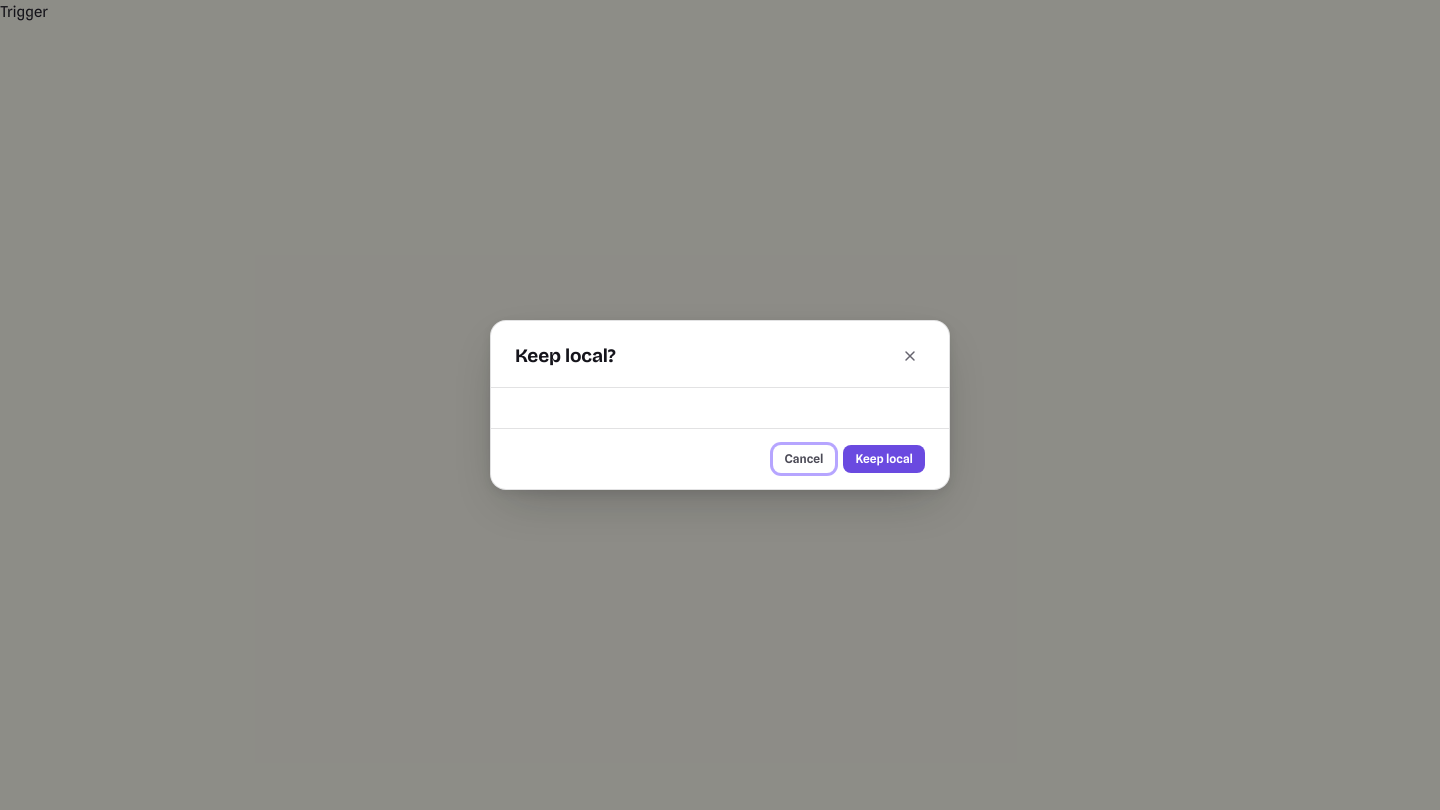
Test: useConfirm › waits for an explicit yes
Click the button "Keep local" at x=884, y=459, box [843, 445, 925, 473]
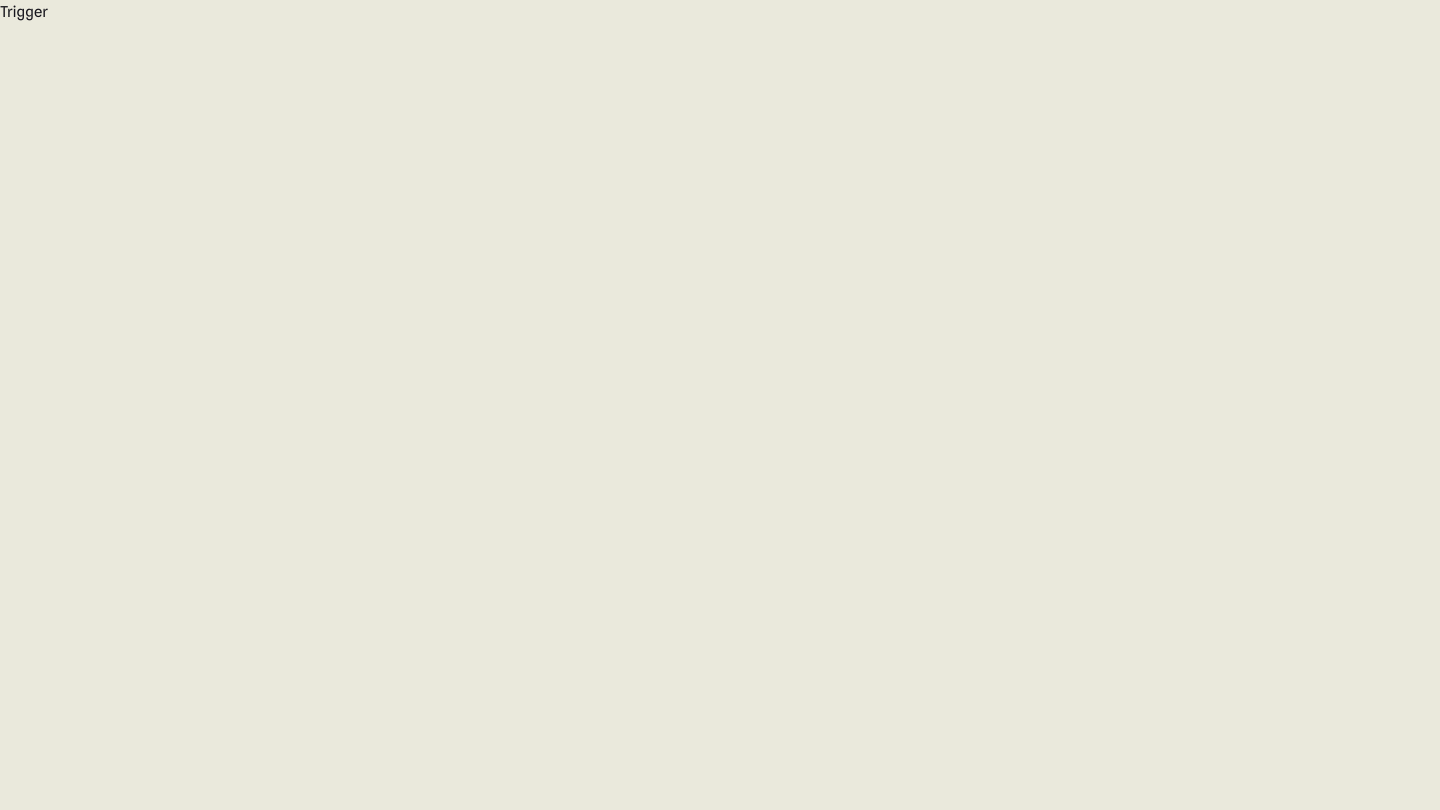
Check: the dialog with test id "confirm-dialog" is gone
